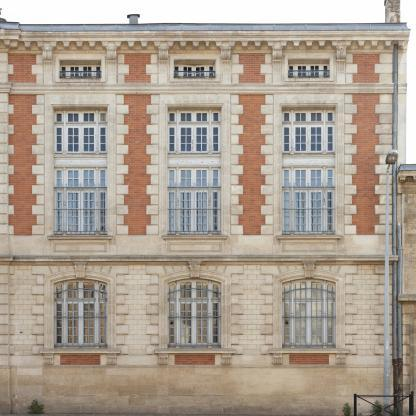Building Outline: (0, 0, 411, 416)
Deco: (41, 47, 53, 77), (220, 46, 232, 76), (106, 47, 118, 77), (272, 46, 284, 75), (158, 47, 170, 76), (336, 46, 347, 75), (72, 261, 88, 279), (301, 261, 317, 278), (187, 261, 202, 278)
Facade: (0, 31, 407, 416)
Floor: (1, 102, 407, 262)
Floor Slab: (1, 255, 407, 262), (1, 95, 407, 102)
Ground Floor: (1, 261, 407, 416)
Molding: (0, 39, 409, 50)
Sill: (39, 349, 121, 365), (268, 349, 350, 364), (154, 349, 236, 364), (276, 234, 342, 239), (47, 235, 113, 240), (162, 235, 228, 239)
Top Floor: (1, 31, 407, 101)
Window: (282, 278, 336, 349), (53, 279, 107, 349), (168, 279, 222, 349), (54, 167, 108, 235), (282, 167, 336, 235), (168, 167, 222, 235), (53, 108, 107, 155), (168, 108, 222, 155), (282, 107, 336, 154), (288, 61, 330, 79), (59, 61, 101, 79), (174, 61, 216, 79)
dont: (354, 149, 414, 416)
